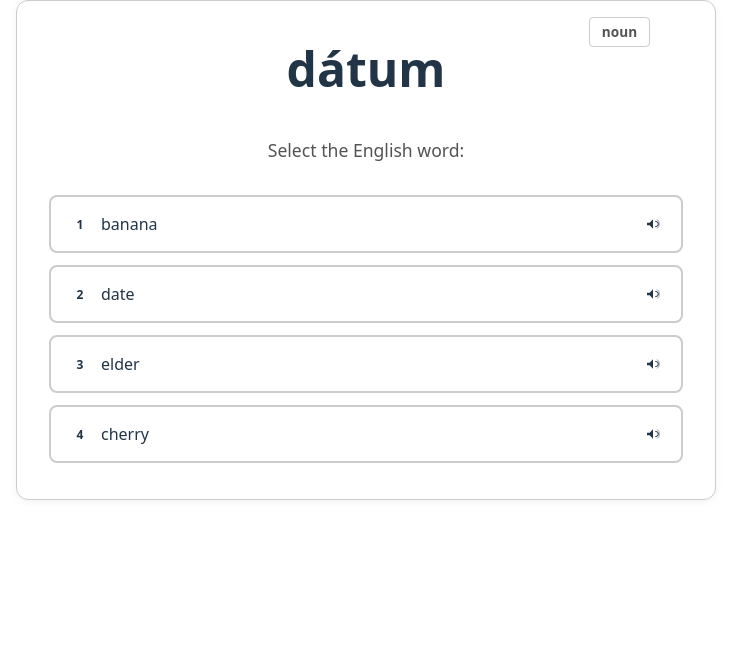
Test: MultipleChoice › shows feedback after selection
Click the button with class "option-button" showing "1 banana" at coordinates (129, 224), box [49,195,683,253]
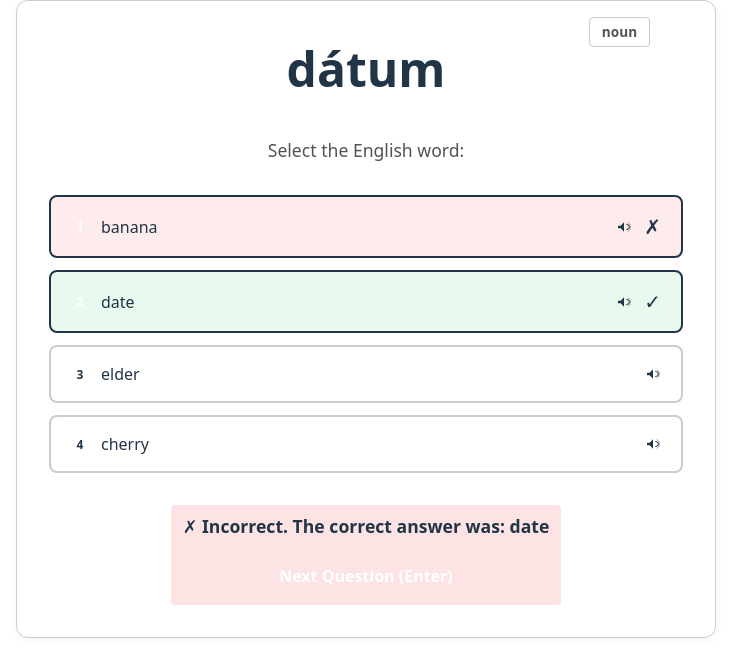
Expected: the element with class "feedback" is shown, [171,505,561,605]
